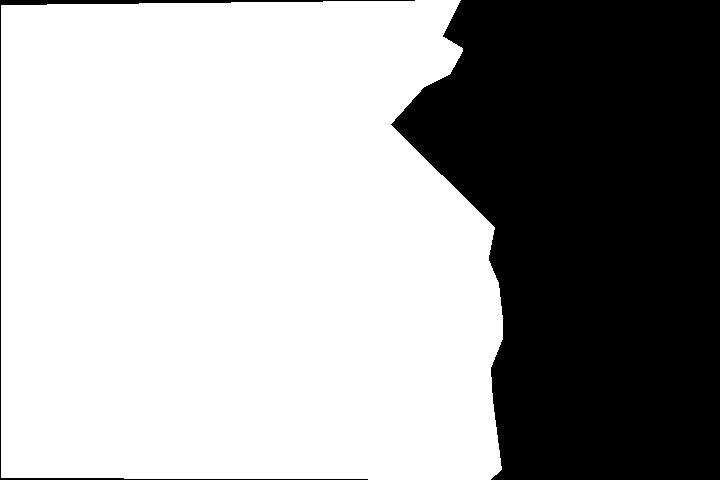Fire: (102, 183, 503, 480), (2, 10, 168, 186)
